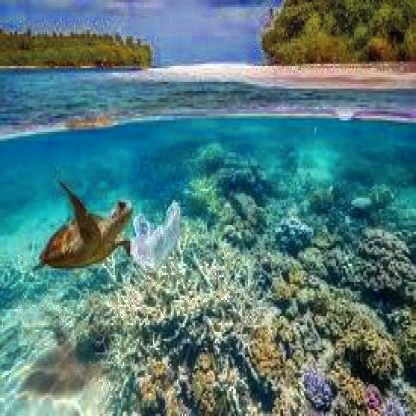pbag: (127, 193, 183, 275)
